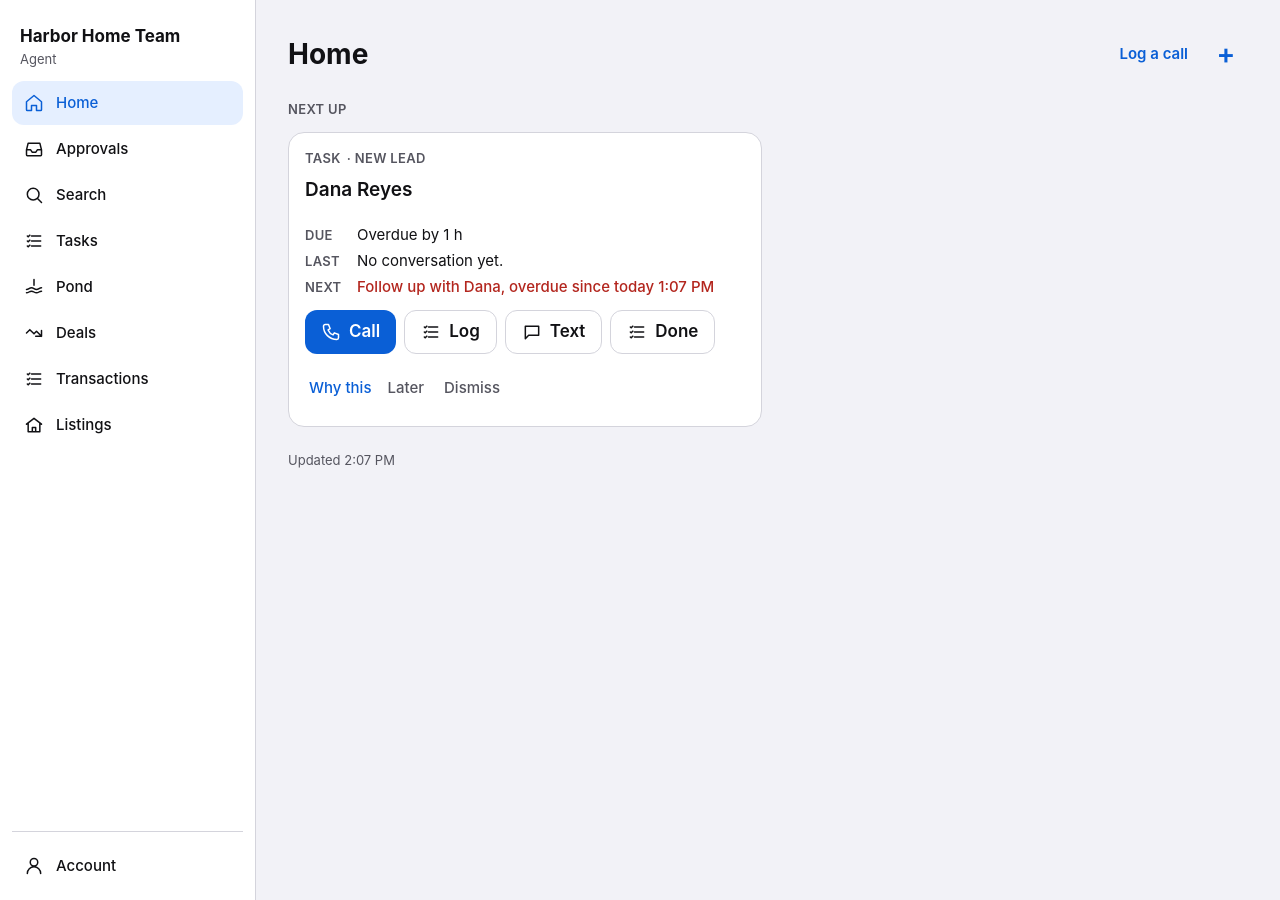
it: H1 (R-TODAY-11): what the tap will add and close is named in the pinned footer, beside the one button, before the tap › Log → "Left voicemail" names it the same way
Click the button with aria-label "Log for Dana Reyes": (450, 332) [404, 310, 497, 354]
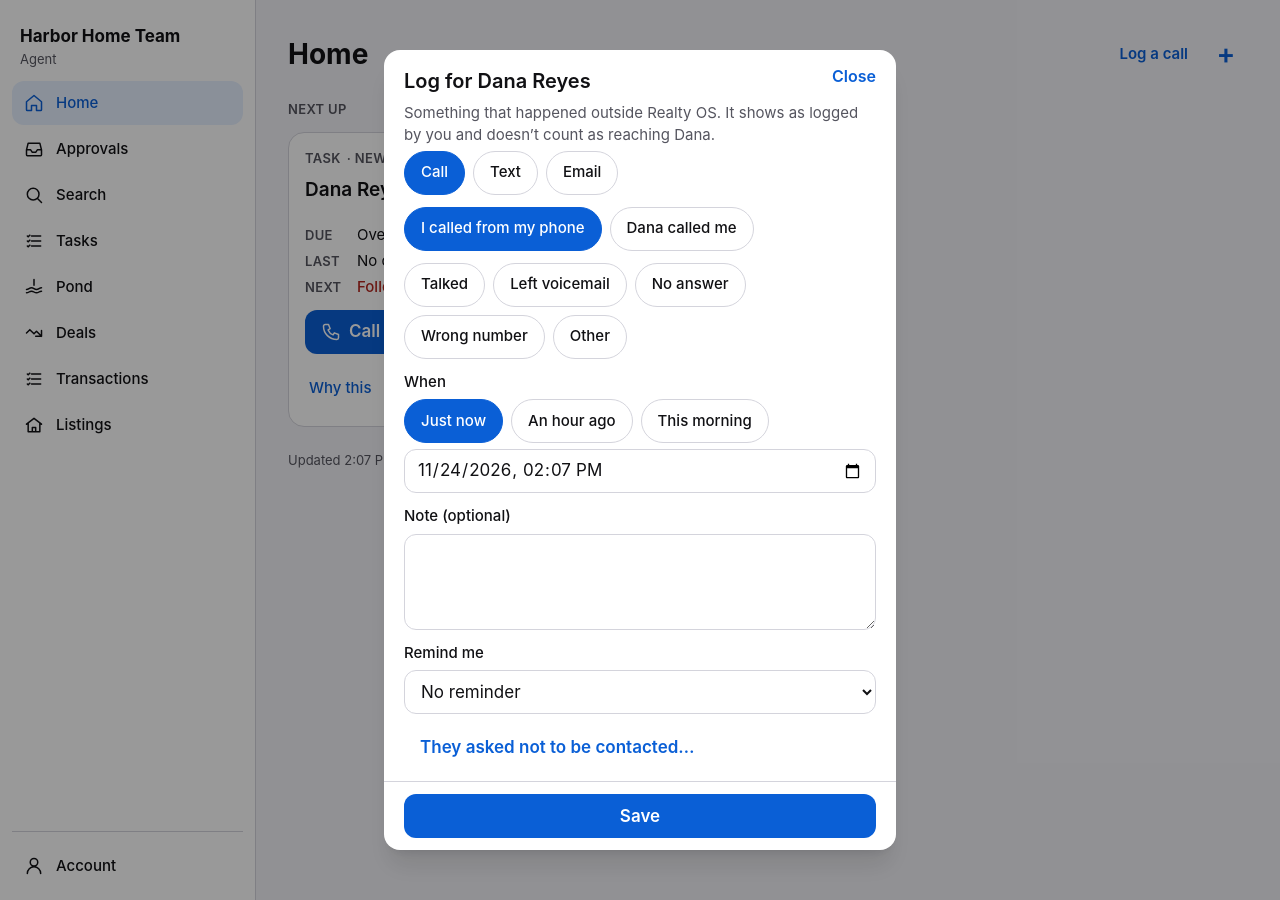
Click the button "Left voicemail": (560, 285) [493, 263, 627, 307]
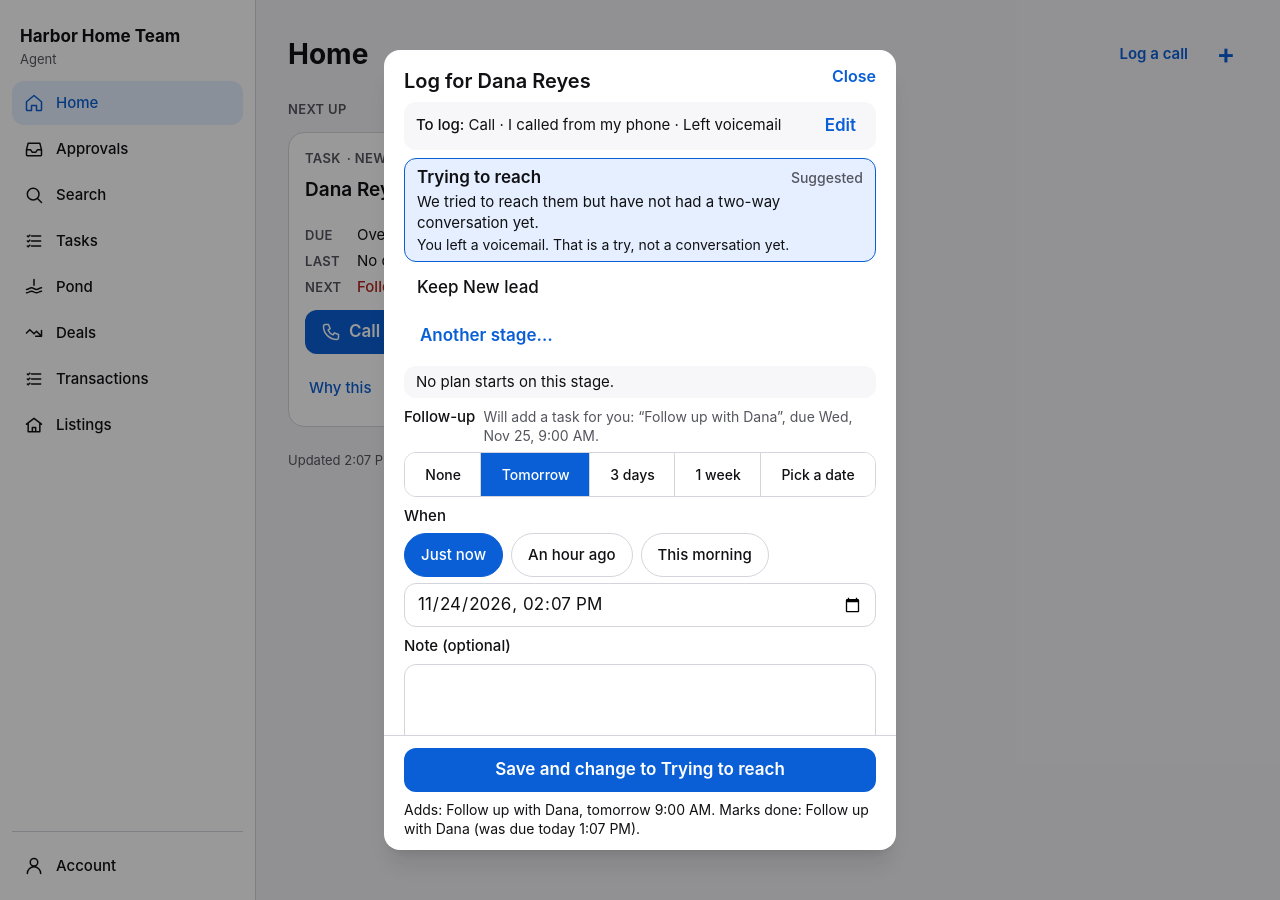
Result: the button with test id "log-save" is enabled at [404, 748, 876, 792]
Result: the radio button labelled "Suggested" is shown at [404, 158, 876, 262]
Result: the button with test id "log-save" reads "Save and change to Trying to reach" at [404, 748, 876, 792]
